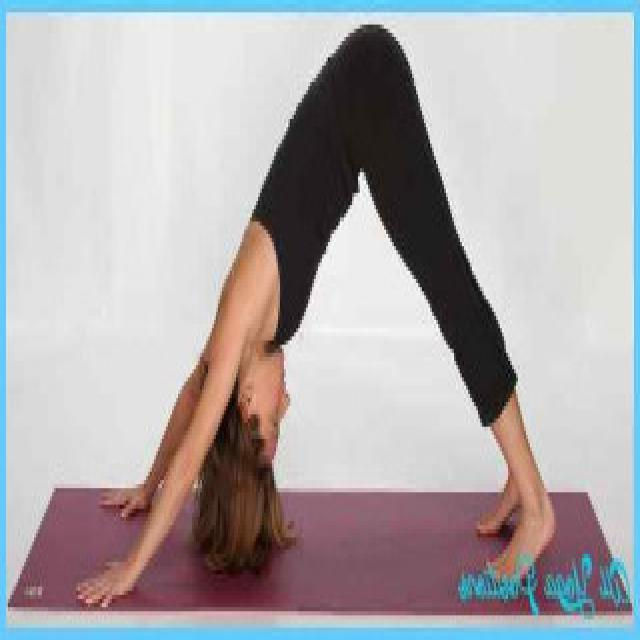yoga-pose downward: (73, 31, 560, 612)
